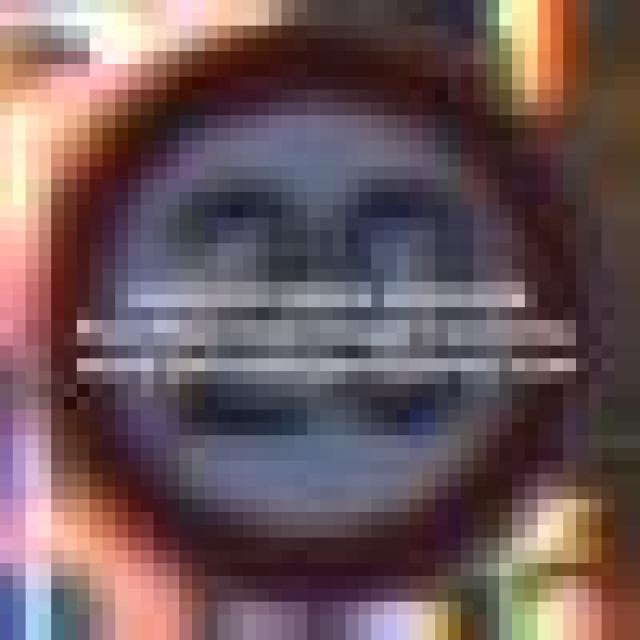road_slippery: (26, 13, 588, 589)
